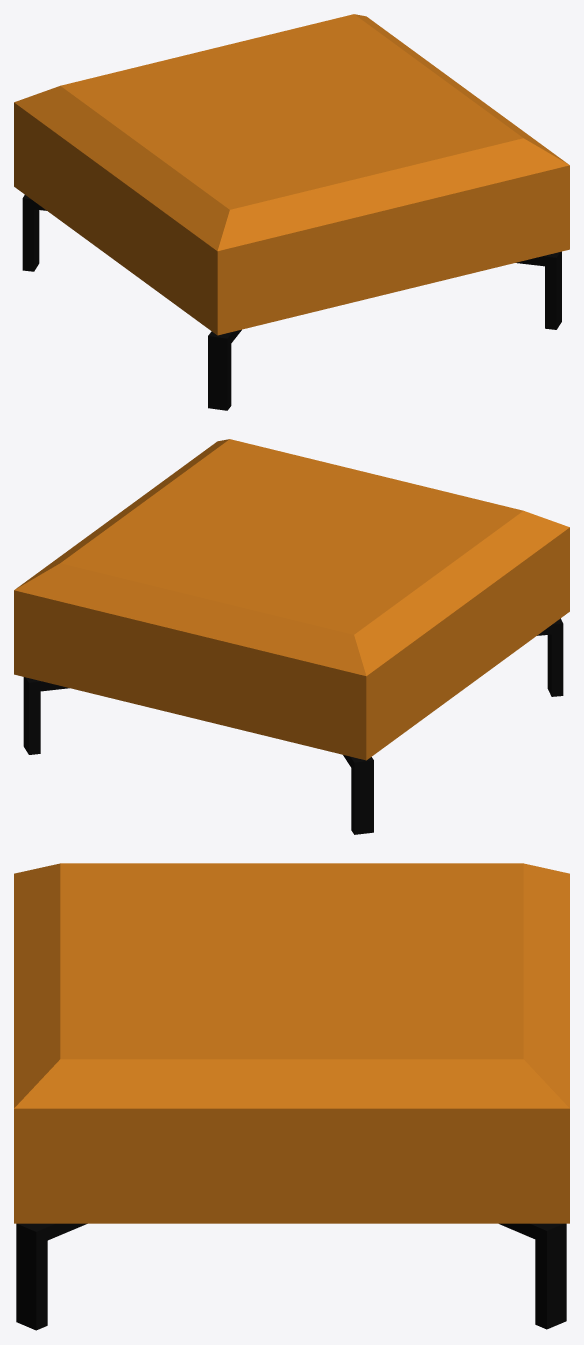
Rendered from stool_visual.dae.
3 views of the same model, one above another, from view 1: azimuth 30°, elevation 25°; view 2: azimuth 150°, elevation 25°; view 3: azimuth 270°, elevation 25° (orthographic). The views are drawn at different scales.
Visible parts, largest first — view 1: Cube; view 2: Cube; view 3: Cube.
Boxes of the visible parts, x1,y1,x2,y2 form: Cube: (14,14,569,410); Cube: (14,439,569,834); Cube: (14,863,569,1330).
Bounding box in the file's own units: 0.8229 × 0.8191 × 0.4091.
